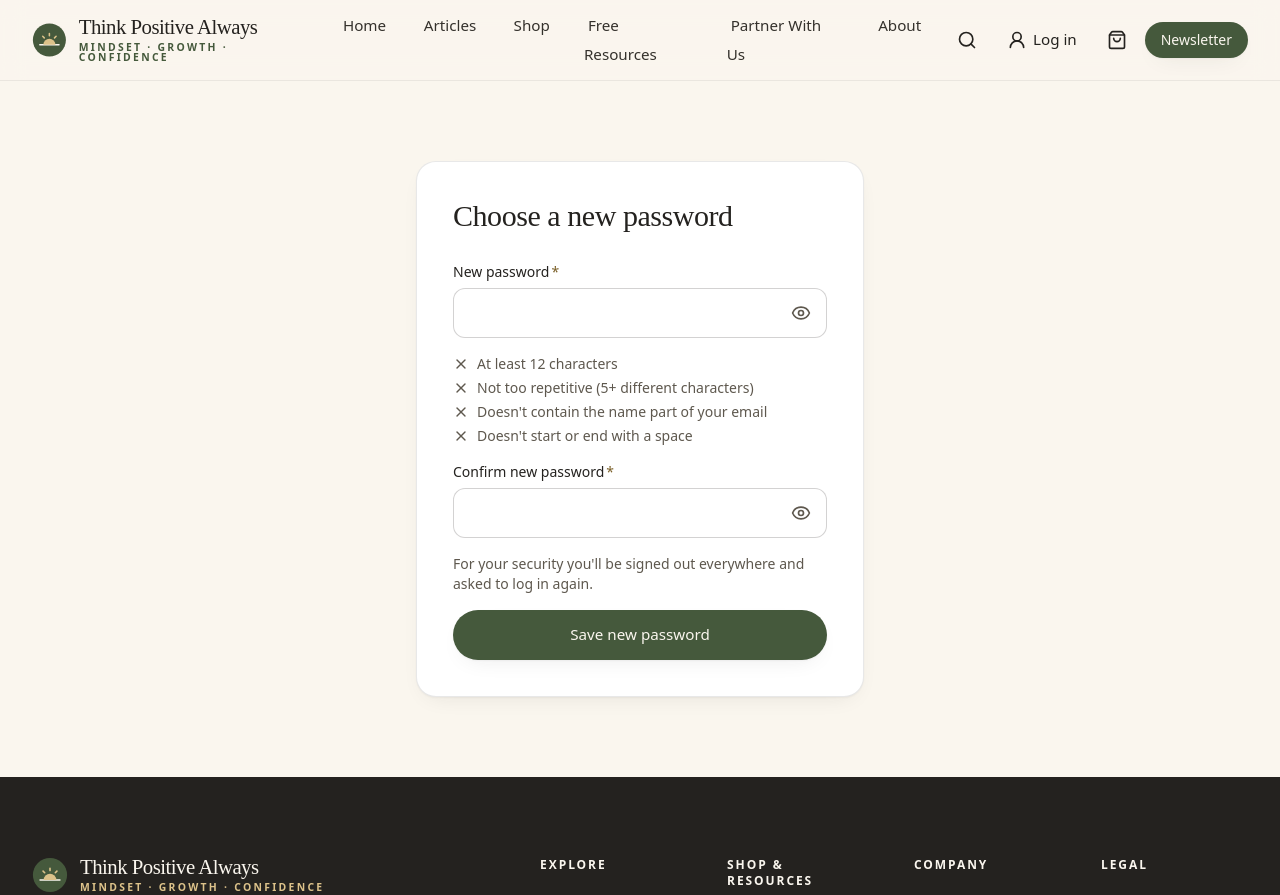
Test: password recovery and email confirmation › resets with a token and returns to log in
In the password field labelled "New password*": (640, 313) [453,288,827,338], type "Brand-New-Passw0rd!"
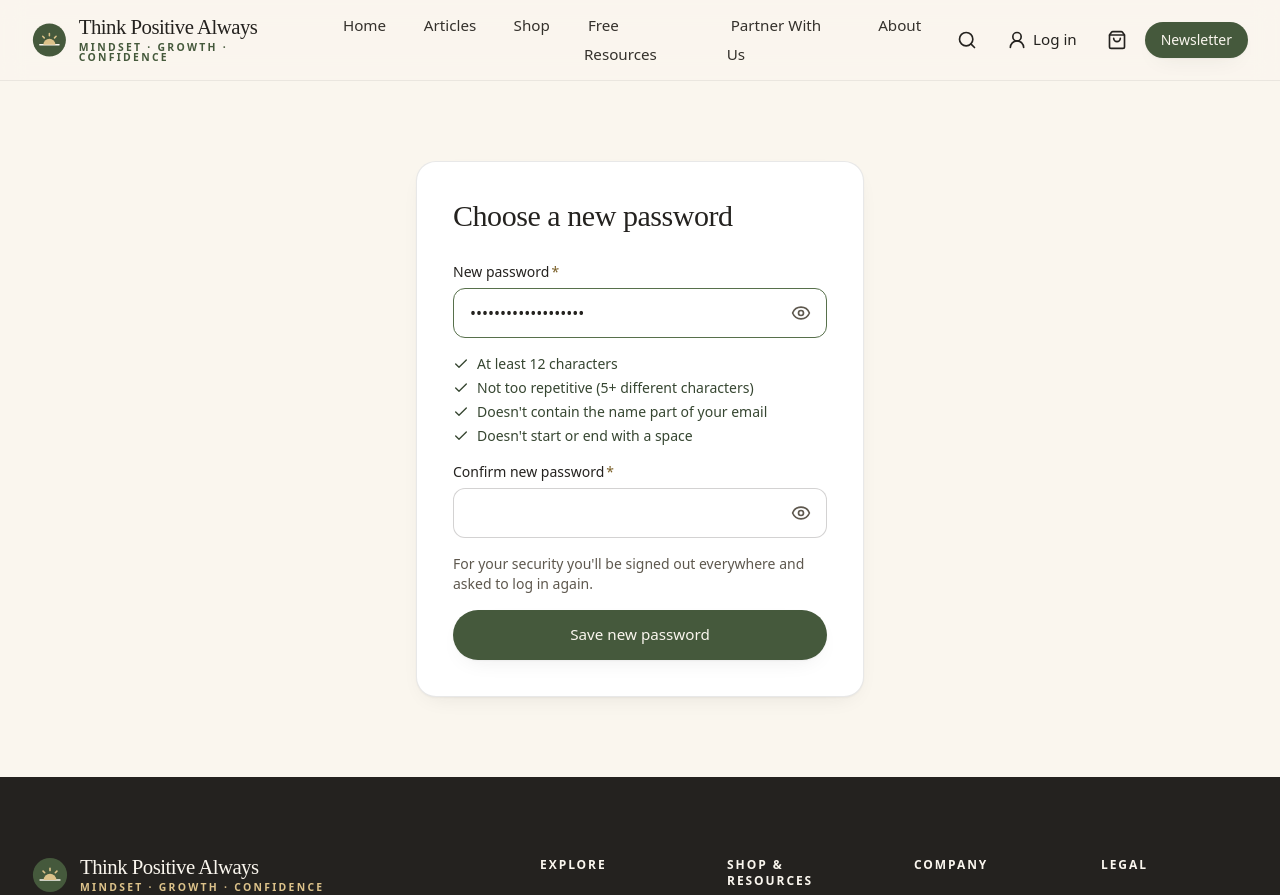
In the password field labelled "Confirm new password*": (640, 513) [453,488,827,538], type "Brand-New-Passw0rd!"
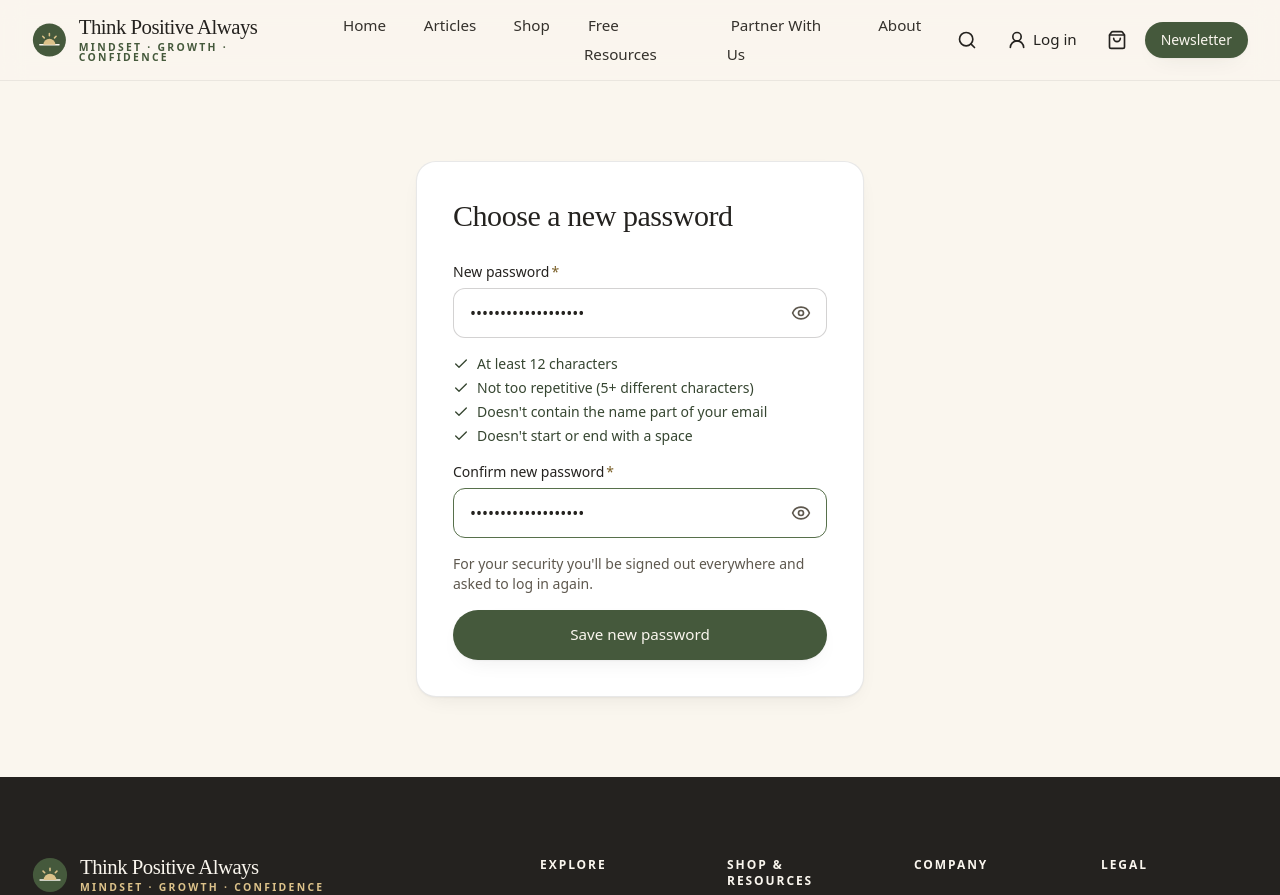
Click the button "Save new password": (640, 635) [453,610,827,660]
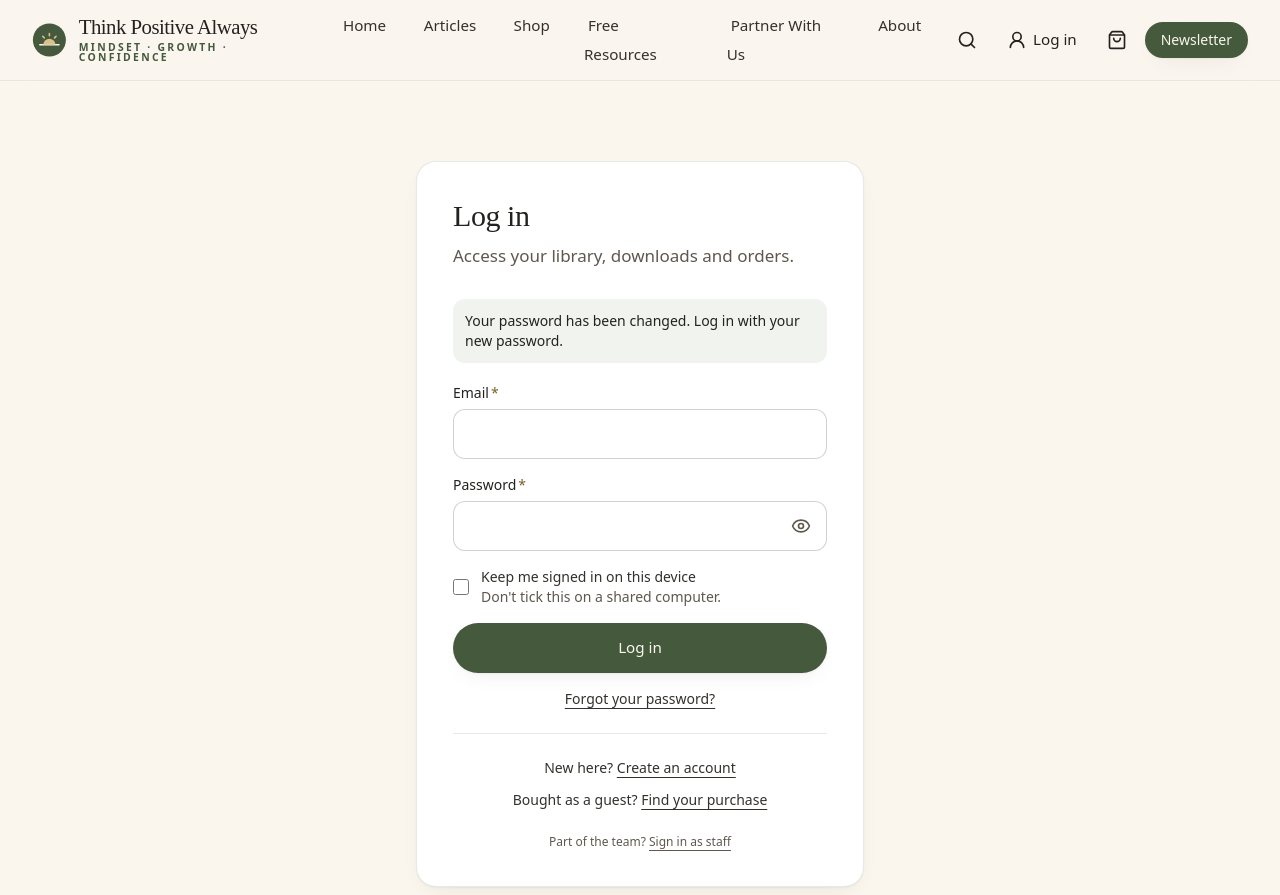
Expected: the text "Your password has been changed. Log in with your new password." is shown, [453,299,827,363]
